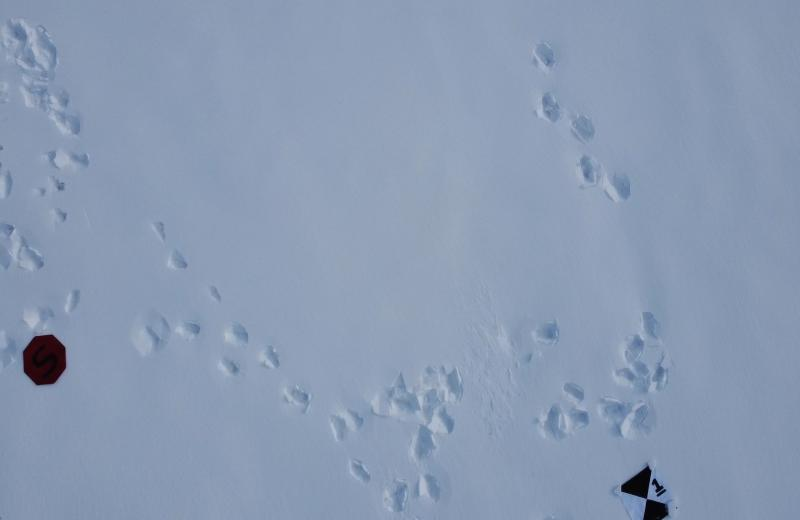Octagon: (23, 334, 69, 388)
